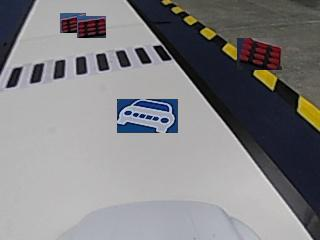crosswalk: (3, 42, 168, 90)
